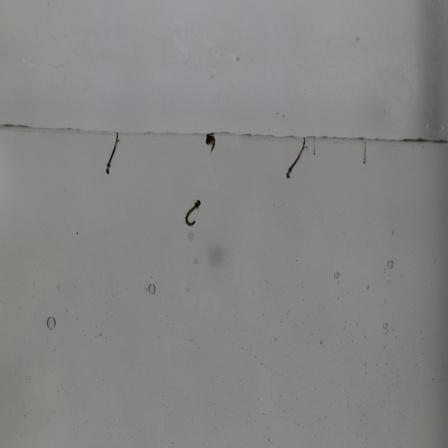Jentik-Nyamuk: (284, 135, 307, 182), (102, 130, 122, 178), (182, 196, 204, 228), (360, 138, 372, 168), (203, 132, 218, 154)
